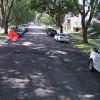Tree: (29, 0, 100, 31)
